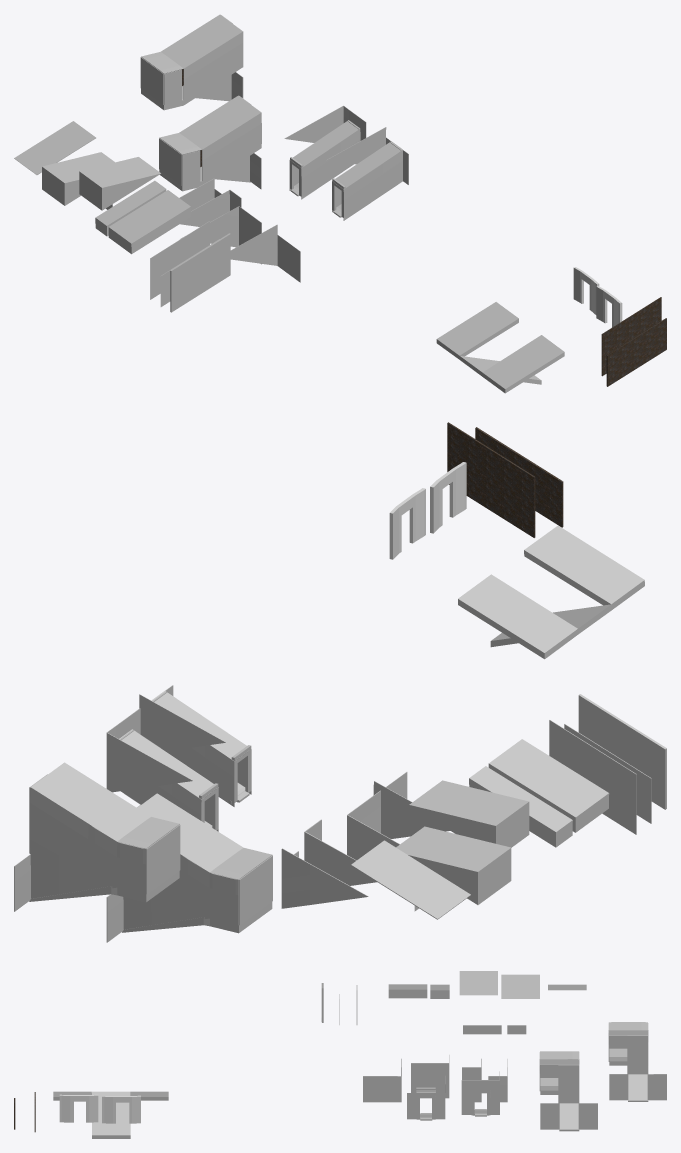
The model's file is UCX_4.fbx.
3 views of the same model, one above another, from view 1: azimuth 30°, elevation 25°; view 2: azimuth 150°, elevation 25°; view 3: azimuth 270°, elevation 25° (orthographic). The views are drawn at different scales.
Parts seen in each view (by area): view 1: UCX_prison_staircase_a, UCX_prison_staircase_b, UCX_prison_stairs_A, UCX_prison_wall_staircase_wall90_3_downStairs, UCX_prison_wall_staircase_wall90_4_downStairs, UCX_prison_wall_addon_d1, UCX_prison_wall_staircase_4wall_A, UCX_prison_wall_staircase_4_ceilingGap, UCX_prison_stairs_A_wireFence_A, UCX_prison_wall_staircase_wall90_3a, UCX_prison_wall_staircase_ceiling, UCX_prison_wall_staircase_3_ceilingGap (+8 smaller); view 2: UCX_prison_staircase_b, UCX_prison_staircase_a, UCX_prison_stairs_A, UCX_prison_wall_staircase_wall90_3_downStairs, UCX_prison_wall_staircase_wall90_4_downStairs, UCX_prison_stairs_A_wireFence_F, UCX_prison_wall_staircase_4_ceilingGap, UCX_prison_wall_staircase_3_ceilingGap, UCX_prison_wall_addon_d1, UCX_prison_wall_staircase_ceiling, UCX_prison_wall_staircase_4, UCX_prison_wall_staircase_4wall_A (+9 smaller); view 3: UCX_prison_staircase_a, UCX_prison_staircase_b, UCX_prison_stairs_A, UCX_prison_wall_staircase_wall90_4_downStairs, UCX_prison_wall_staircase_wall90_4a, UCX_prison_wall_staircase_wall90_3a, UCX_prison_wall_staircase_wall90_3_downStairs, UCX_prison_wall_staircase_3_ceilingGap, UCX_prison_wall_staircase_4_ceilingGap, UCX_prison_stairs_A_entrance_b, UCX_prison_stairs_A_entrance_a, UCX_prison_wall_addon_d1 (+5 smaller).
Part boxes in pixels (x1,y1,x2,y2): UCX_prison_staircase_a: [159, 95, 261, 191]; UCX_prison_staircase_b: [140, 14, 243, 110]; UCX_prison_stairs_A: [436, 302, 564, 393]; UCX_prison_wall_staircase_wall90_3_downStairs: [327, 127, 408, 220]; UCX_prison_wall_staircase_wall90_4_downStairs: [284, 105, 366, 199]; UCX_prison_wall_addon_d1: [108, 190, 190, 254]; UCX_prison_wall_staircase_4wall_A: [170, 233, 230, 312]; UCX_prison_wall_staircase_4_ceilingGap: [79, 157, 160, 210]; UCX_prison_stairs_A_wireFence_A: [606, 318, 666, 386]; UCX_prison_wall_staircase_wall90_3a: [230, 224, 300, 282]; UCX_prison_wall_staircase_ceiling: [14, 121, 95, 174]; UCX_prison_wall_staircase_3_ceilingGap: [42, 152, 114, 205]; UCX_prison_staircase_b: [14, 762, 180, 911]; UCX_prison_staircase_a: [106, 793, 272, 942]; UCX_prison_stairs_A: [458, 525, 644, 659]; UCX_prison_wall_staircase_wall90_3_downStairs: [139, 685, 251, 806]; UCX_prison_wall_staircase_wall90_4_downStairs: [106, 708, 218, 831]; UCX_prison_stairs_A_wireFence_F: [447, 422, 535, 537]; UCX_prison_wall_staircase_4_ceilingGap: [409, 780, 529, 847]; UCX_prison_wall_staircase_3_ceilingGap: [396, 826, 511, 904]; UCX_prison_wall_addon_d1: [488, 739, 609, 832]; UCX_prison_wall_staircase_ceiling: [351, 840, 470, 919]; UCX_prison_wall_staircase_4: [549, 720, 636, 834]; UCX_prison_wall_staircase_4wall_A: [578, 694, 666, 809]; UCX_prison_staircase_a: [539, 1051, 597, 1131]; UCX_prison_staircase_b: [608, 1022, 666, 1101]; UCX_prison_stairs_A: [53, 1091, 168, 1138]; UCX_prison_wall_staircase_wall90_4_downStairs: [461, 1071, 499, 1116]; UCX_prison_wall_staircase_wall90_4a: [411, 1055, 449, 1098]; UCX_prison_wall_staircase_wall90_3a: [363, 1058, 401, 1102]; UCX_prison_wall_staircase_wall90_3_downStairs: [407, 1076, 445, 1120]; UCX_prison_wall_staircase_3_ceilingGap: [501, 974, 539, 998]; UCX_prison_wall_staircase_4_ceilingGap: [459, 971, 497, 995]; UCX_prison_stairs_A_entrance_b: [59, 1094, 98, 1122]; UCX_prison_stairs_A_entrance_a: [102, 1095, 140, 1123]; UCX_prison_wall_addon_d1: [388, 984, 427, 998].
Bounding box in the file's own units: 32.34 × 12.24 × 67.78.
